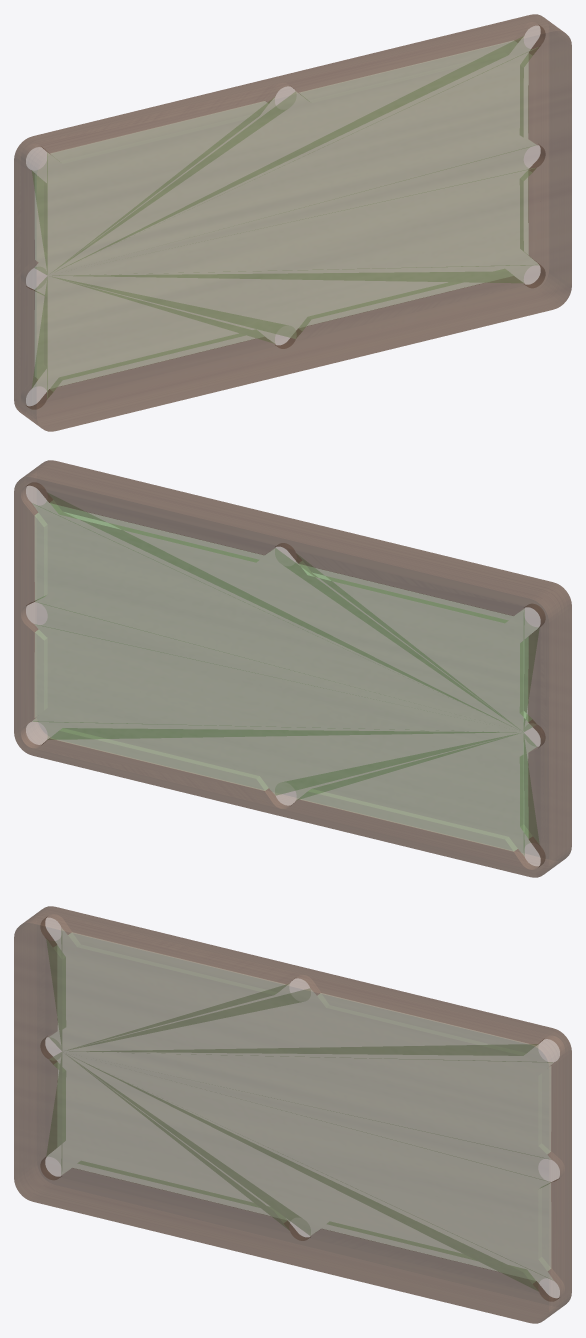
The model's file is Billiard_Table_Clear_10_29.fbx.
The picture shows the model from 3 angles, top to bottom: view 1: azimuth 30°, elevation 25°; view 2: azimuth 150°, elevation 25°; view 3: azimuth 330°, elevation 25°; orthographic projection.
Visible parts, largest first — view 1: base.001; view 2: base.001; view 3: base.001.
Boxes of the visible parts, x1=… form: base.001: x1=14, y1=14, x2=571, y2=431; base.001: x1=14, y1=460, x2=571, y2=877; base.001: x1=14, y1=906, x2=571, y2=1323.
Size of the model in its own units: 6363 by 3162 by 484.
